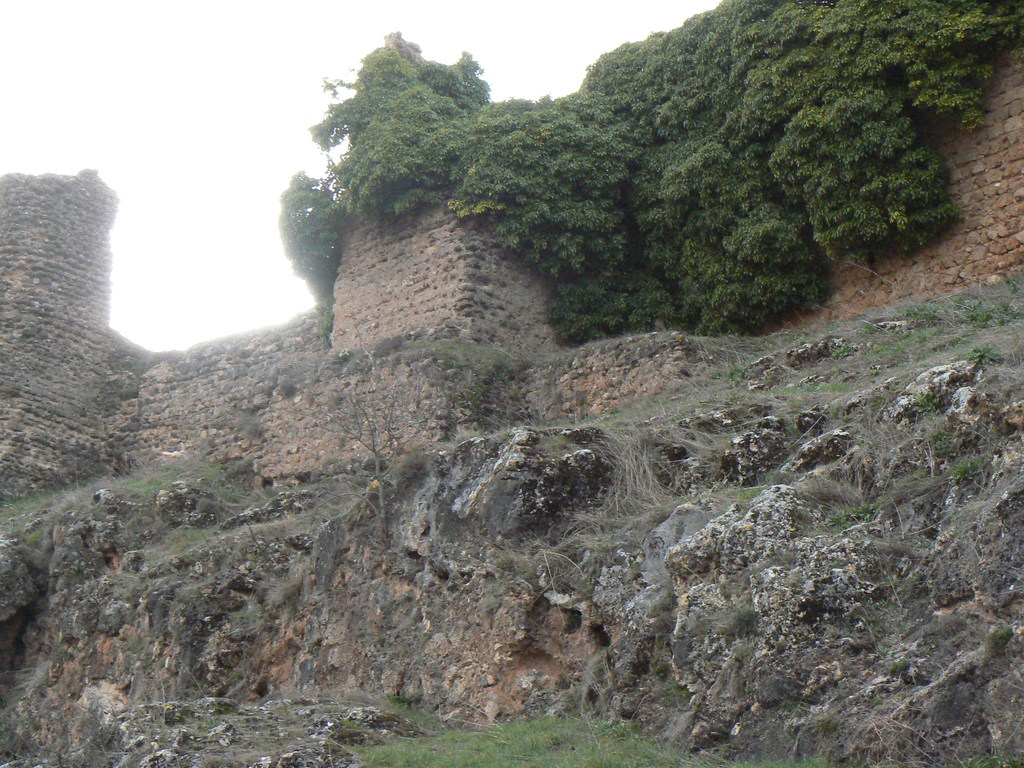Tree: (275, 0, 1024, 345)
